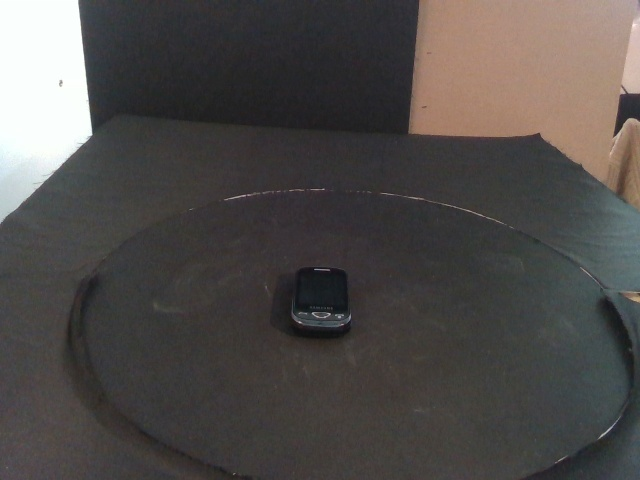phone: (289, 266, 353, 338)
